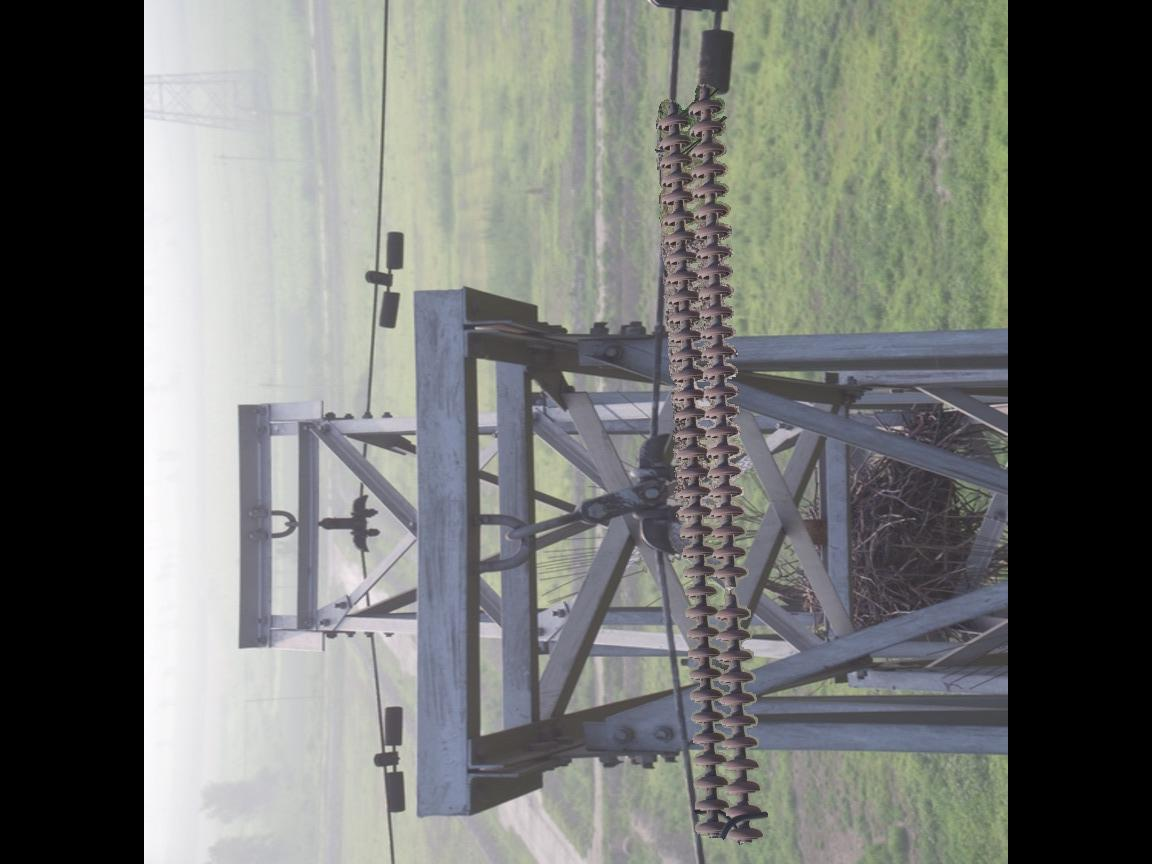insulator: (650, 91, 773, 849)
insulator_stringdrop: (712, 562, 753, 628)
